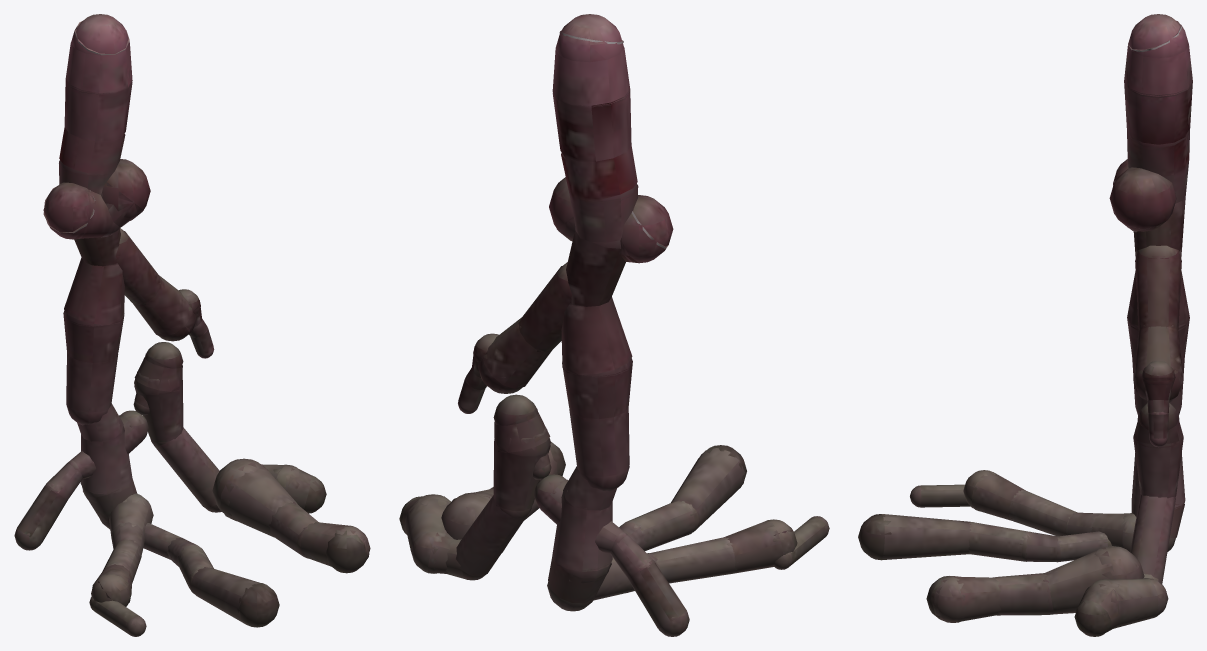
The model's file is fulgurite.glb.
The picture shows the model from 3 angles, left to right: view 1: azimuth 30°, elevation 25°; view 2: azimuth 150°, elevation 25°; view 3: azimuth 270°, elevation 25°; orthographic projection. The views are drawn at different scales.
Parts seen in each view (by area): view 1: body; view 2: body; view 3: body.
Part boxes in pixels (x1=…): body: x1=14, y1=14, x2=370, y2=636; body: x1=399, y1=14, x2=829, y2=636; body: x1=858, y1=14, x2=1192, y2=636.
Bounding box in the file's own units: 2.2 × 3.82 × 2.18.
Materials: 1 (1 with a texture image).
